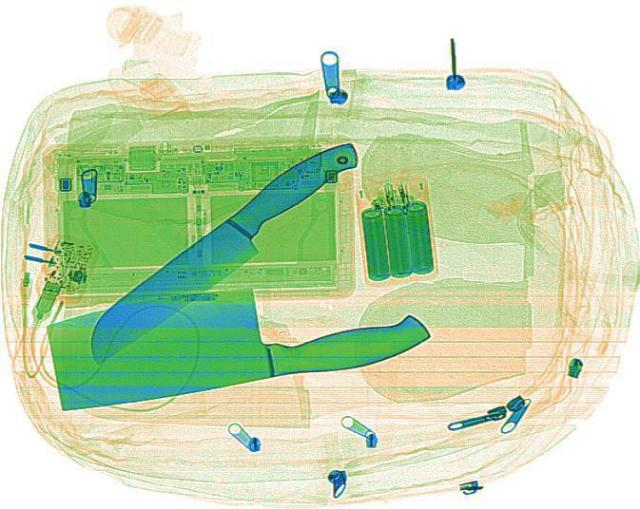Knife: (64, 127, 372, 372), (32, 258, 438, 412)
